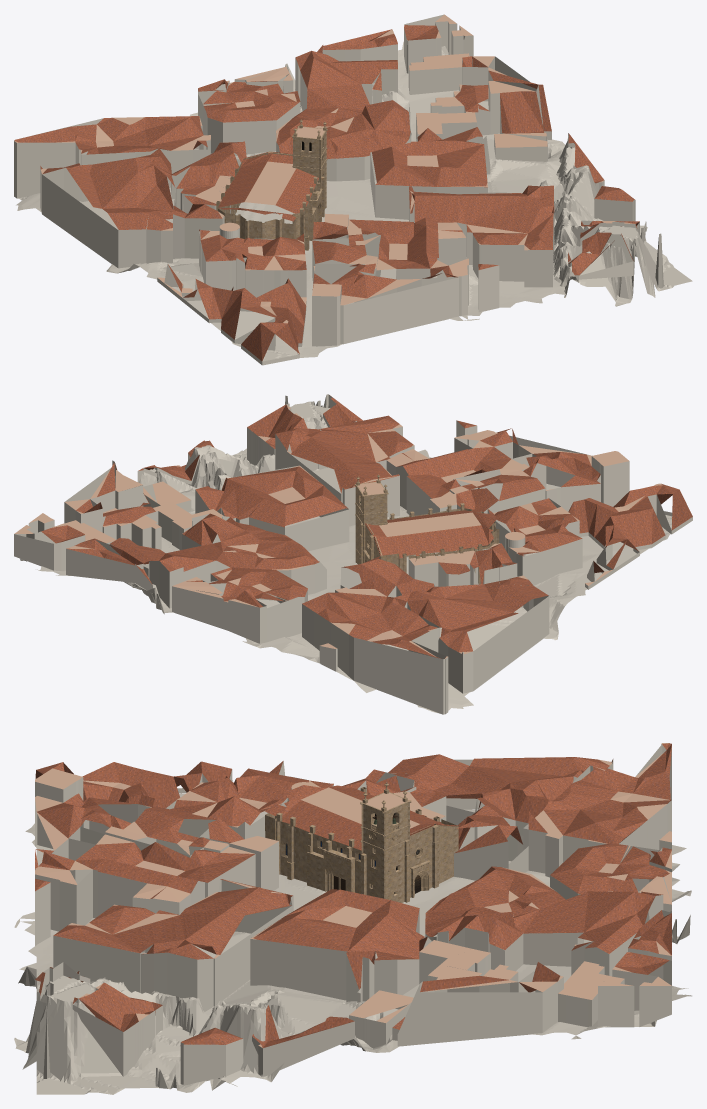
File: santa_maria.fbx
3 views of the same model, one above another, from view 1: azimuth 30°, elevation 25°; view 2: azimuth 150°, elevation 25°; view 3: azimuth 270°, elevation 25° (orthographic). The views are drawn at different scales.
Parts seen in each view (by area): view 1: Terreno_interpolado, Edificio_12_cubierta, Edificio_34_cubierta, Edificio_11_cubierta, Edificio_34_fachadas, Edificio_28_fachadas, Edificio_10_cubierta, Edificio_33_cubierta, Edificio_31_cubierta, Edificio_32_cubierta, Edificio_33_fachadas, Edificio_11_fachadas (+37 smaller); view 2: Terreno_interpolado, Edificio_33_fachadas, Edificio_34_cubierta, Edificio_12_cubierta, Edificio_10_cubierta, Edificio_11_cubierta, Edificio_33_cubierta, Edificio_34_fachadas, Edificio_31_cubierta, Edificio_32_cubierta, Edificio_30_cubierta, Edificio_12_fachadas (+34 smaller); view 3: Terreno_interpolado, Edificio_12_cubierta, Edificio_34_cubierta, Edificio_11_fachadas, Edificio_11_cubierta, Edificio_10_cubierta, Edificio_33_cubierta, Edificio_24_fachadas, Edificio_10_fachadas, Edificio_32_cubierta, Edificio_32_fachadas, Edificio_12_fachadas (+47 smaller).
Part boxes in pixels (bbox=[...]): Terreno_interpolado: bbox=[16, 41, 692, 361]; Edificio_12_cubierta: bbox=[276, 50, 410, 158]; Edificio_34_cubierta: bbox=[40, 141, 246, 230]; Edificio_11_cubierta: bbox=[409, 185, 554, 250]; Edificio_34_fachadas: bbox=[40, 159, 240, 268]; Edificio_28_fachadas: bbox=[313, 266, 458, 344]; Edificio_10_cubierta: bbox=[372, 127, 487, 187]; Edificio_33_cubierta: bbox=[14, 116, 210, 154]; Edificio_31_cubierta: bbox=[183, 278, 306, 361]; Edificio_32_cubierta: bbox=[348, 217, 468, 277]; Edificio_33_fachadas: bbox=[14, 118, 210, 201]; Edificio_11_fachadas: bbox=[409, 186, 554, 287]; Terreno_interpolado: bbox=[20, 395, 672, 713]; Edificio_33_fachadas: bbox=[302, 590, 448, 714]; Edificio_34_cubierta: bbox=[342, 556, 548, 653]; Edificio_12_cubierta: bbox=[110, 513, 319, 571]; Edificio_10_cubierta: bbox=[195, 465, 348, 527]; Edificio_11_cubierta: bbox=[276, 415, 414, 493]; Edificio_33_cubierta: bbox=[302, 578, 447, 658]; Edificio_34_fachadas: bbox=[340, 567, 549, 693]; Edificio_31_cubierta: bbox=[568, 483, 692, 569]; Edificio_32_cubierta: bbox=[387, 430, 521, 498]; Edificio_30_cubierta: bbox=[488, 498, 582, 556]; Edificio_12_fachadas: bbox=[110, 514, 326, 608]; Terreno_interpolado: bbox=[14, 793, 691, 1094]; Edificio_12_cubierta: bbox=[425, 866, 662, 953]; Edificio_34_cubierta: bbox=[388, 754, 612, 853]; Edificio_11_fachadas: bbox=[53, 879, 293, 1011]; Edificio_11_cubierta: bbox=[53, 879, 292, 959]; Edificio_10_cubierta: bbox=[250, 889, 427, 989]; Edificio_33_cubierta: bbox=[528, 743, 671, 843]; Edificio_24_fachadas: bbox=[420, 966, 563, 1044]; Edificio_10_fachadas: bbox=[250, 909, 431, 1002]; Edificio_32_cubierta: bbox=[35, 834, 254, 902]; Edificio_32_fachadas: bbox=[35, 827, 255, 931]; Edificio_12_fachadas: bbox=[425, 895, 663, 976].
Bounding box in the file's own units: 159 × 39.43 × 160.
